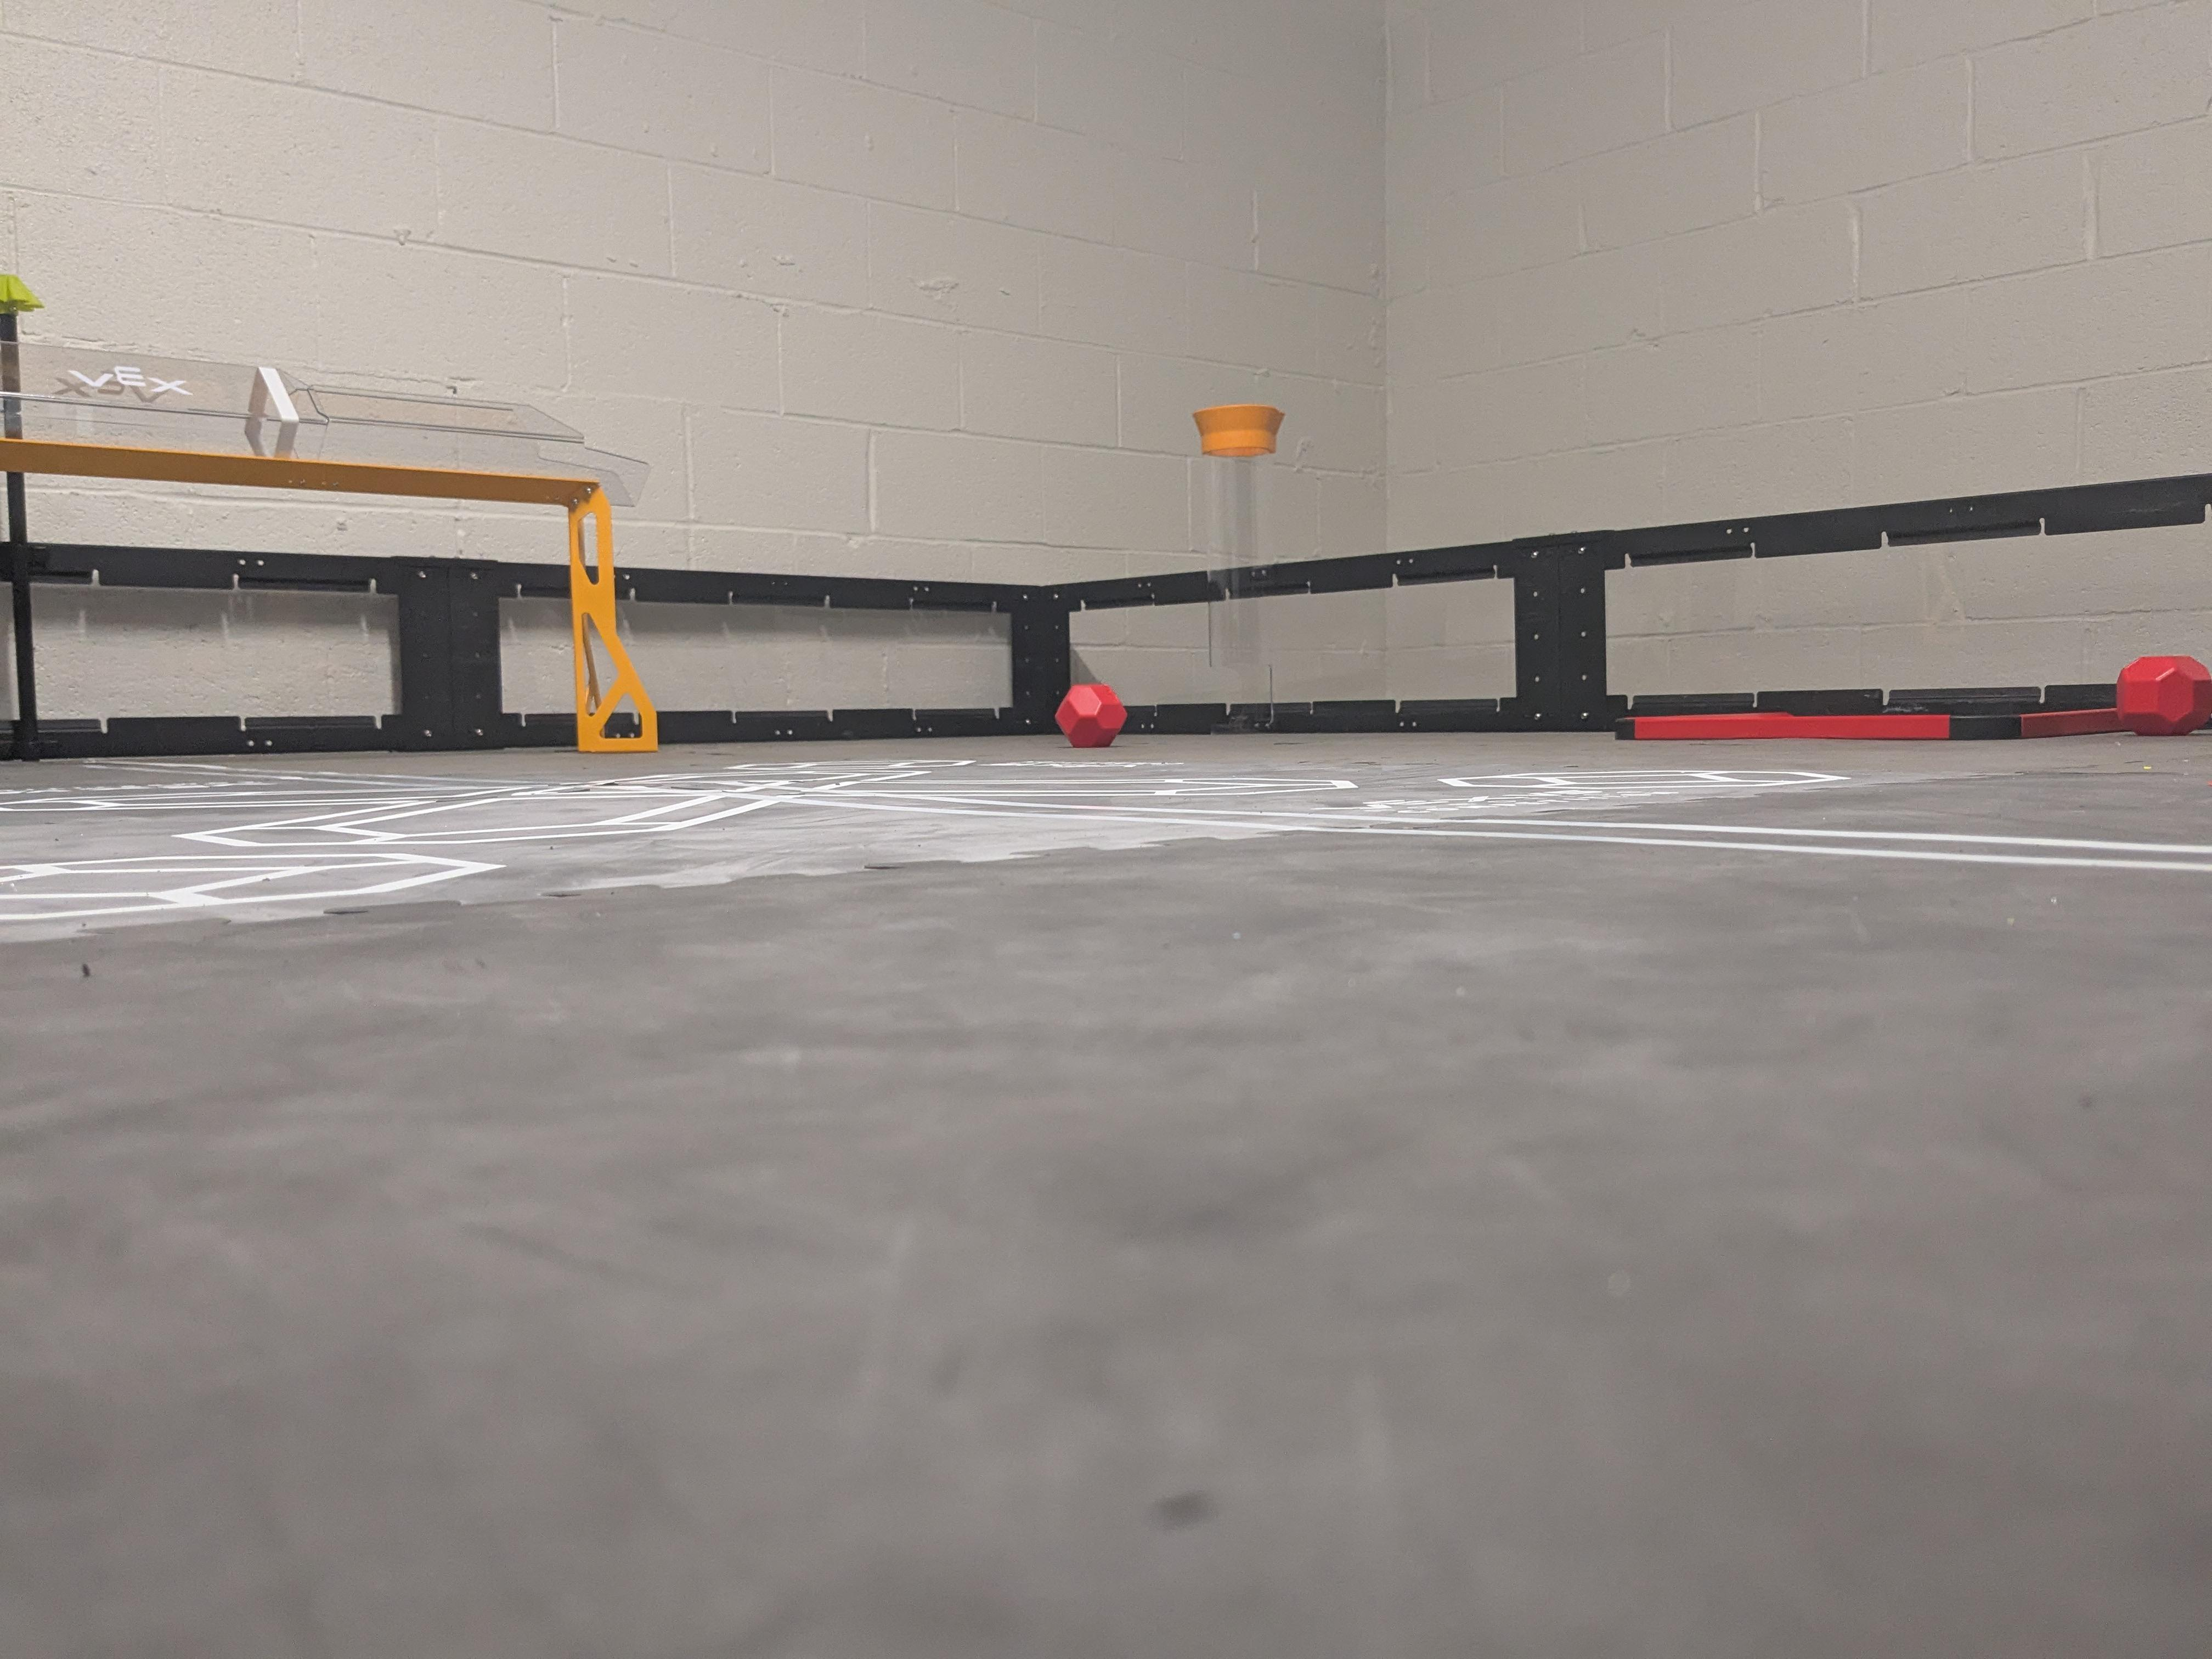Vex-Pieces-RED: (2116, 657, 2212, 735), (1055, 683, 1127, 748)
